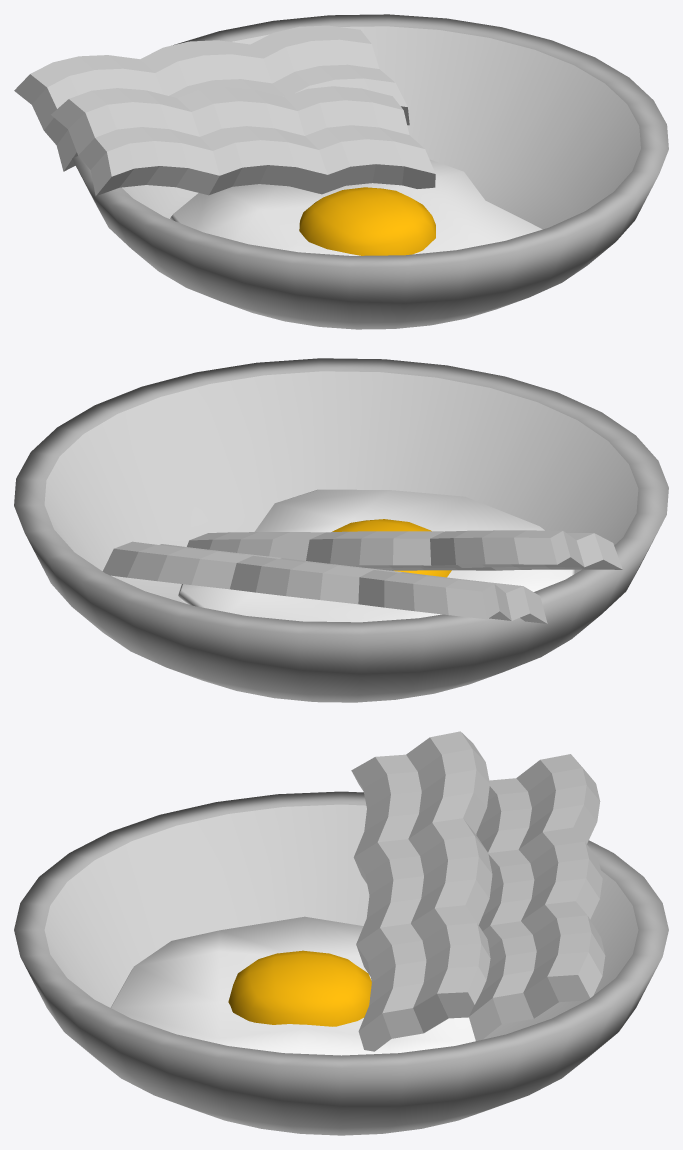
The model's file is EggAndBacon.fbx.
The picture shows the model from 3 angles, top to bottom: view 1: azimuth 30°, elevation 25°; view 2: azimuth 150°, elevation 25°; view 3: azimuth 270°, elevation 25°; orthographic projection. The views are drawn at different scales.
Visible parts, largest first — view 1: Plate.001, EggandBacon.002, Egg; view 2: Plate.001, EggandBacon.002, Egg; view 3: Plate.001, EggandBacon.002, Egg.
Boxes of the visible parts, x1=… form: Plate.001: x1=72, y1=14, x2=668, y2=329; EggandBacon.002: x1=14, y1=25, x2=435, y2=195; Egg: x1=170, y1=159, x2=542, y2=255; Plate.001: x1=14, y1=358, x2=668, y2=702; EggandBacon.002: x1=102, y1=530, x2=622, y2=623; Egg: x1=178, y1=489, x2=575, y2=622; Plate.001: x1=14, y1=791, x2=668, y2=1135; EggandBacon.002: x1=351, y1=731, x2=605, y2=1051; Egg: x1=111, y1=916, x2=475, y2=1055.
Bounding box in the file's own units: 32.17 × 9.92 × 31.83.
